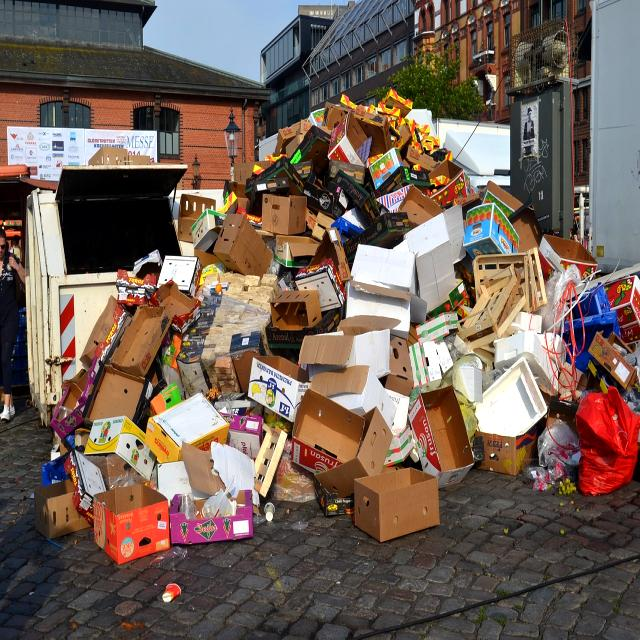Cardboard: (351, 461, 442, 548), (405, 380, 476, 489), (297, 311, 401, 384), (90, 480, 175, 569), (142, 388, 230, 472), (289, 387, 365, 481), (167, 488, 256, 548), (84, 361, 153, 436), (349, 240, 419, 304), (212, 209, 275, 276), (472, 425, 541, 476), (270, 285, 323, 332), (260, 190, 307, 238)
Garbage: (33, 95, 640, 560)
